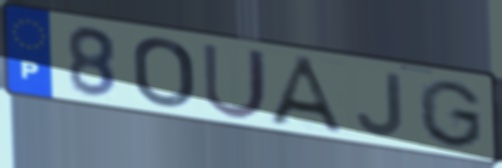8: (64, 25, 118, 100)
A: (265, 53, 352, 138)
G: (415, 78, 485, 151)
J: (354, 71, 407, 139)
O: (130, 36, 197, 110)
U: (200, 40, 271, 122)
